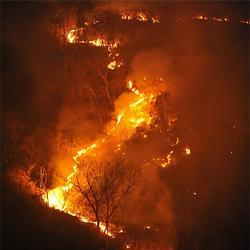fire: (116, 94, 152, 126), (43, 186, 68, 208), (88, 36, 109, 49), (64, 27, 76, 43)
